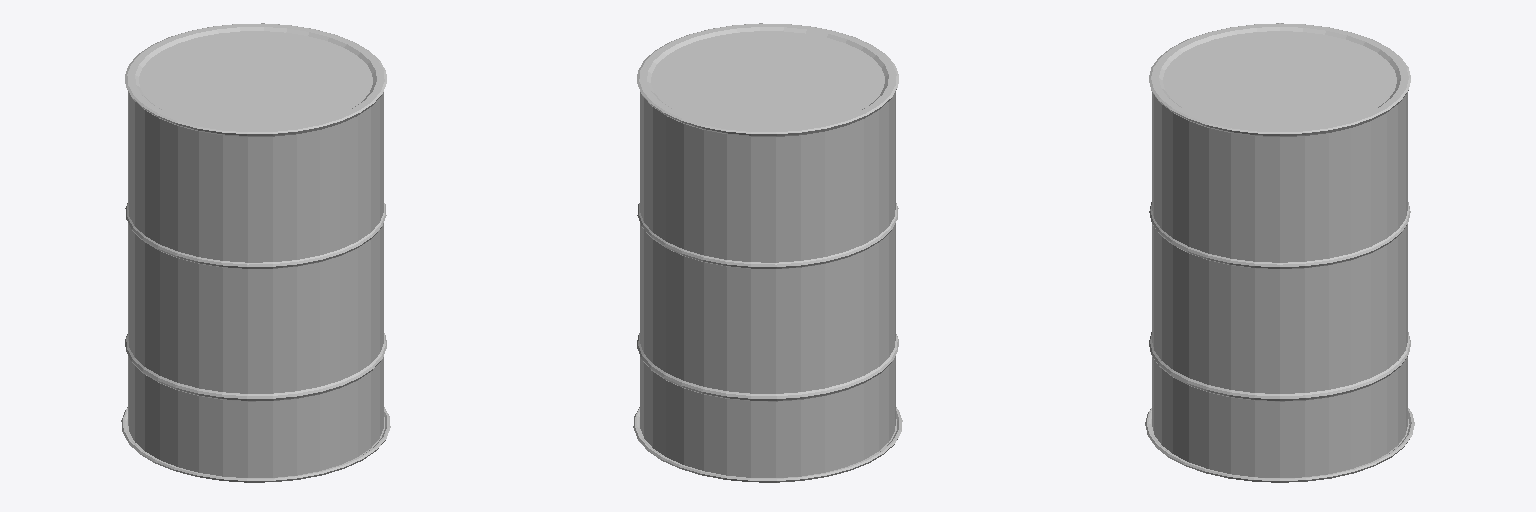
File: metallic_barrel_with_lod0.obj
3 renders of one model, left to right at view 1: azimuth 30°, elevation 25°; view 2: azimuth 150°, elevation 25°; view 3: azimuth 270°, elevation 25°, orthographic.
Parts seen in each view (by area): view 1: MetallicBarel.LOD00__0; view 2: MetallicBarel.LOD00__0; view 3: MetallicBarel.LOD00__0.
Part boxes in pixels (bbox=[...]): MetallicBarel.LOD00__0: bbox=[121, 23, 390, 482]; MetallicBarel.LOD00__0: bbox=[633, 23, 902, 482]; MetallicBarel.LOD00__0: bbox=[1145, 23, 1414, 482].
Size of the model in its own units: 0.7401 by 1.08 by 0.7401.